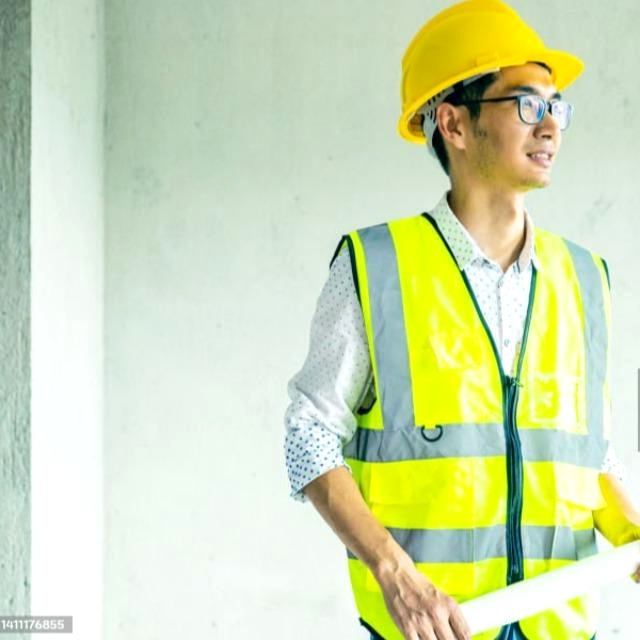Con_Casco: (394, 0, 586, 188)
Con_Chaleco: (328, 213, 603, 640)
